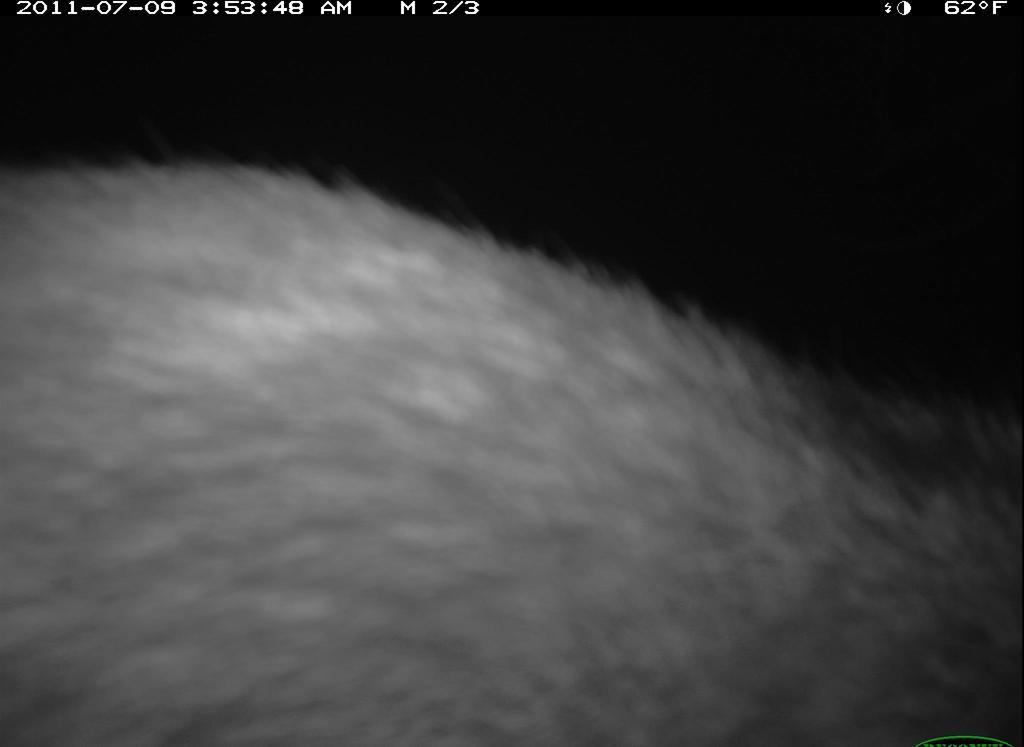raccoon: (1, 116, 1023, 747)
